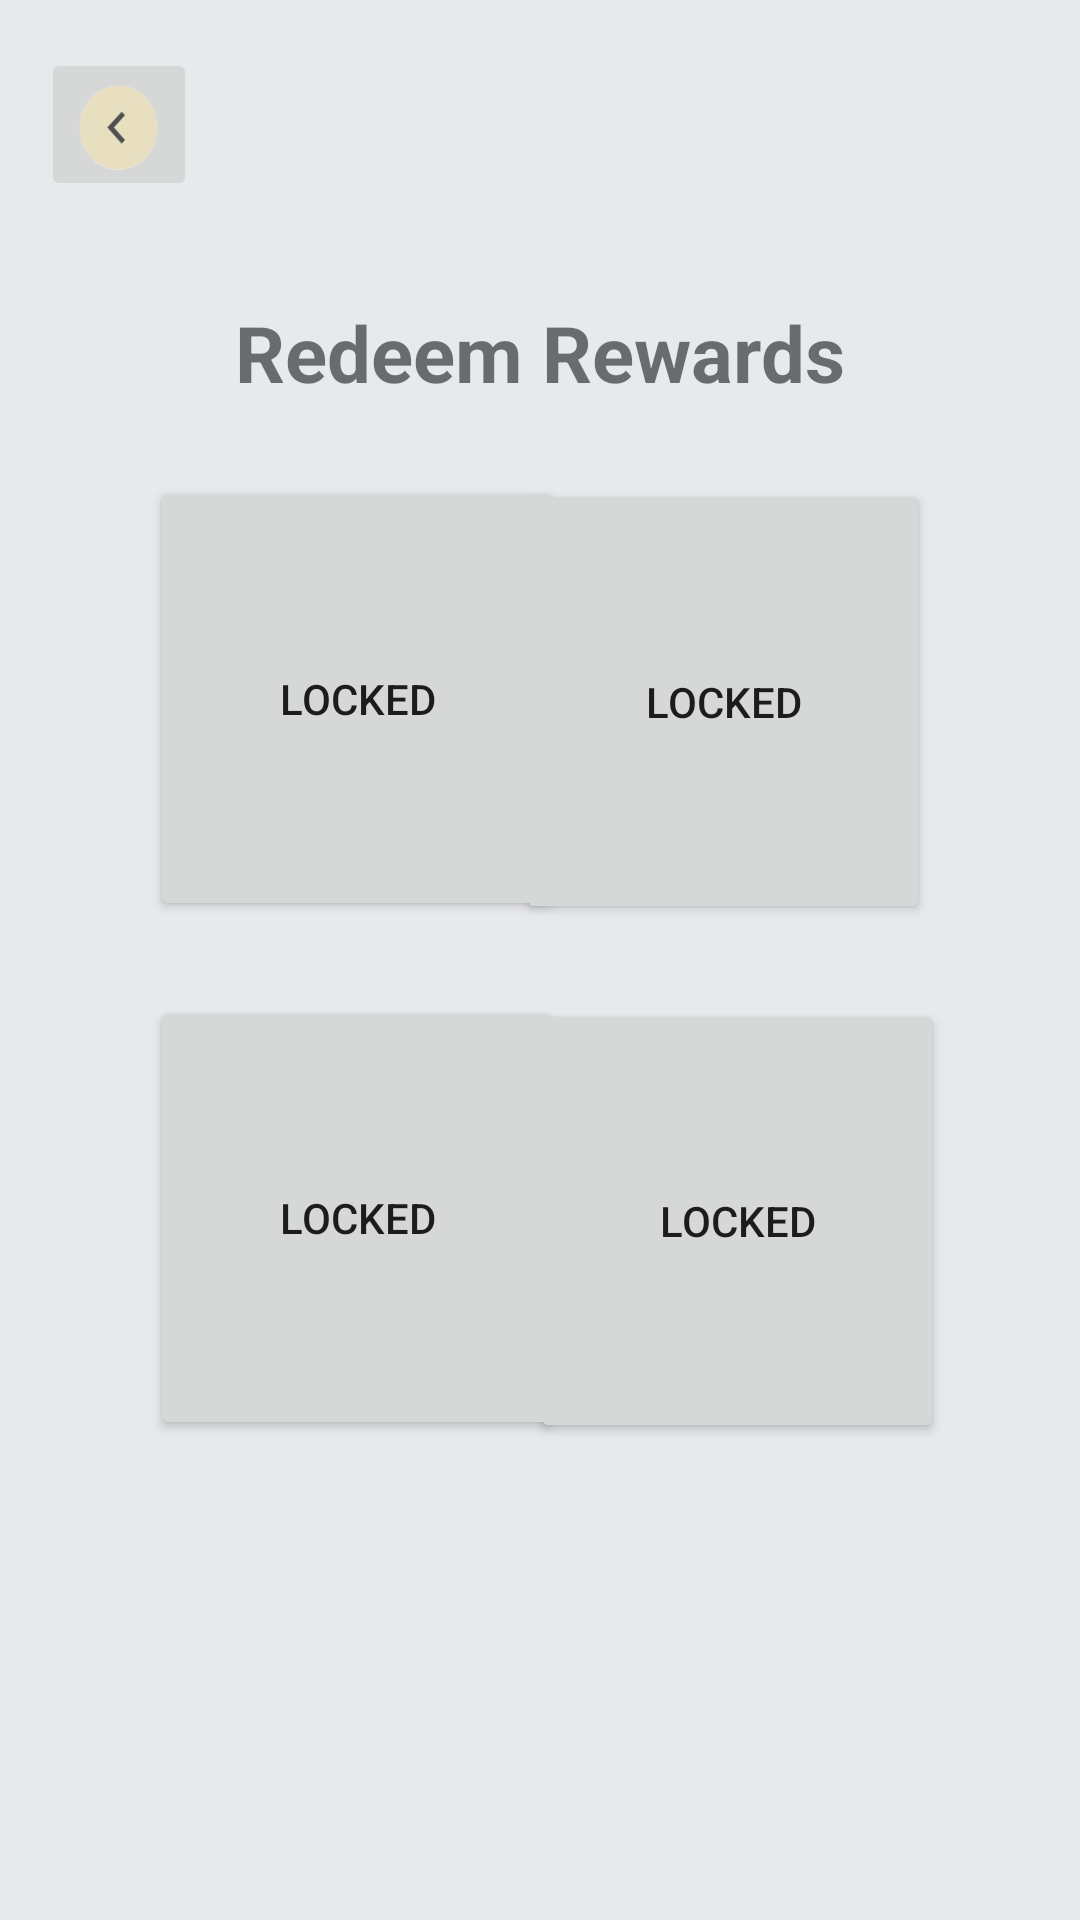

Icon click points for this 1080 x 1920 phone screenshot, format (x,y):
back: (118,127)
